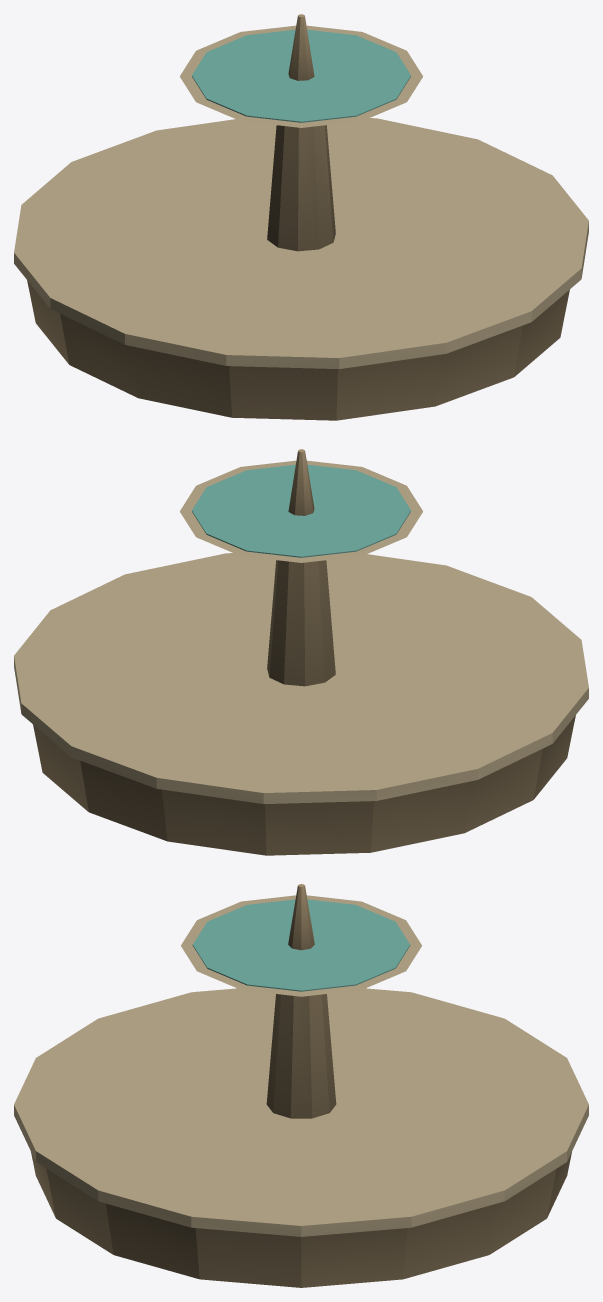
Rendered from fountain.glb.
3 views of the same model, one above another, from view 1: azimuth 30°, elevation 25°; view 2: azimuth 150°, elevation 25°; view 3: azimuth 270°, elevation 25° (orthographic).
Visible parts, largest first — view 1: fountain_mesh; view 2: fountain_mesh; view 3: fountain_mesh.
Boxes of the visible parts, x1,y1,x2,y2 form: fountain_mesh: [14, 14, 588, 420]; fountain_mesh: [14, 449, 588, 855]; fountain_mesh: [14, 884, 588, 1287].
Size of the model in its own units: 4.76 by 2.65 by 4.76.
